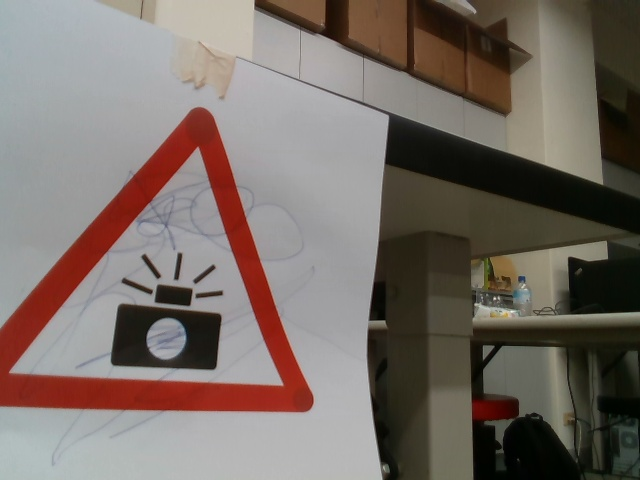camera: (14, 102, 320, 421)
